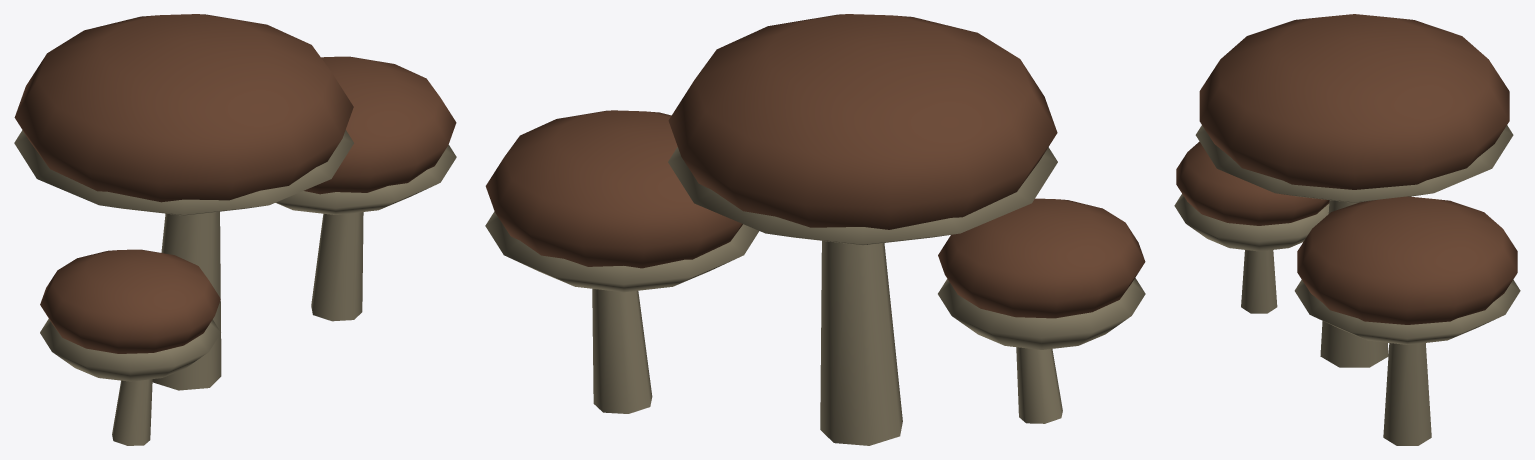
3 renders of one model, left to right at view 1: azimuth 30°, elevation 25°; view 2: azimuth 150°, elevation 25°; view 3: azimuth 270°, elevation 25°, orthographic. The views are drawn at different scales.
Visible parts, largest first — view 1: Stem; view 2: Stem; view 3: Stem.
Boxes of the visible parts, box(x1,y1,x2,y2) form: Stem: box(14, 14, 456, 445); Stem: box(485, 14, 1145, 445); Stem: box(1174, 14, 1520, 445).
Size of the model in its own units: 1.43 by 0.9868 by 0.98.
